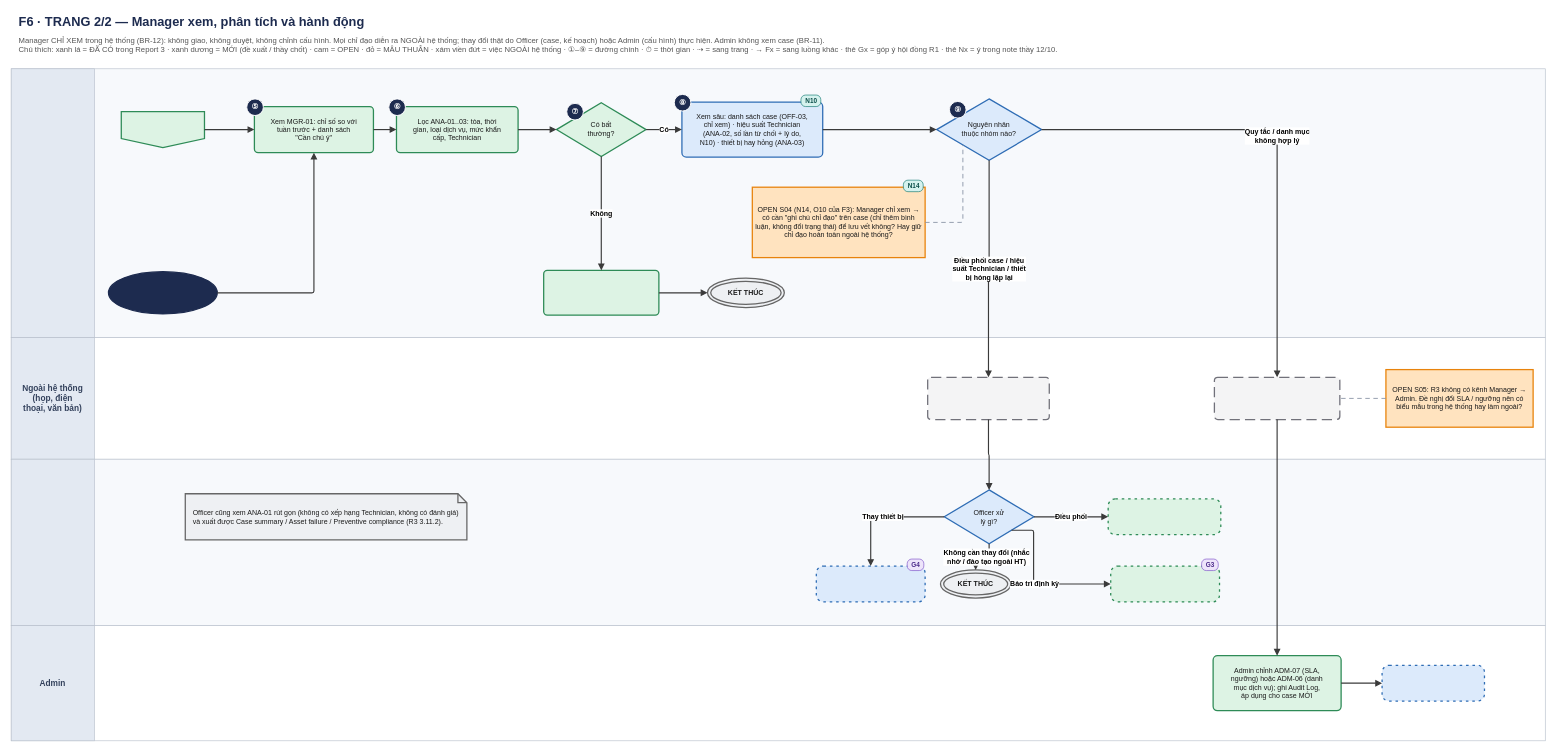
Some shapes in this 1556 by 752 pixel diagram are drawn without their labels. Each missing label, with the centre of its shape:
"BẮT ĐẦU (cách 2) Manager mở MGR-01 (hằng ngày / họp tuần)" belongs at (163,292).
"Facility Manager" belongs at (52,203).
"Manager gửi đề nghị Admin đổi quy tắc / danh mục (văn bản)" belongs at (1276,398).
"Manager trao đổi / chỉ đạo Officer phụ trách tòa (họp, điện thoại)" belongs at (988,398).
"Officer phụ trách tòa" belongs at (52,542).
"Xuất báo cáo (ANA-04, PDF / Excel) cho họp ban quản lý tòa nhà" belongs at (601,292).
"→ F1 Trang 1 (danh mục dịch vụ)" belongs at (1433,682).
"→ F2: lập kế hoạch định kỳ (PM-02)" belongs at (1165,583).
"→ F3 / F4: giao lại, dời lịch, ưu tiên lại" belongs at (1164,516).
"→ F5: xem xét sửa hay thay thiết bị" belongs at (870,583).
"⇢ từ Trang 1" belongs at (162,129).
